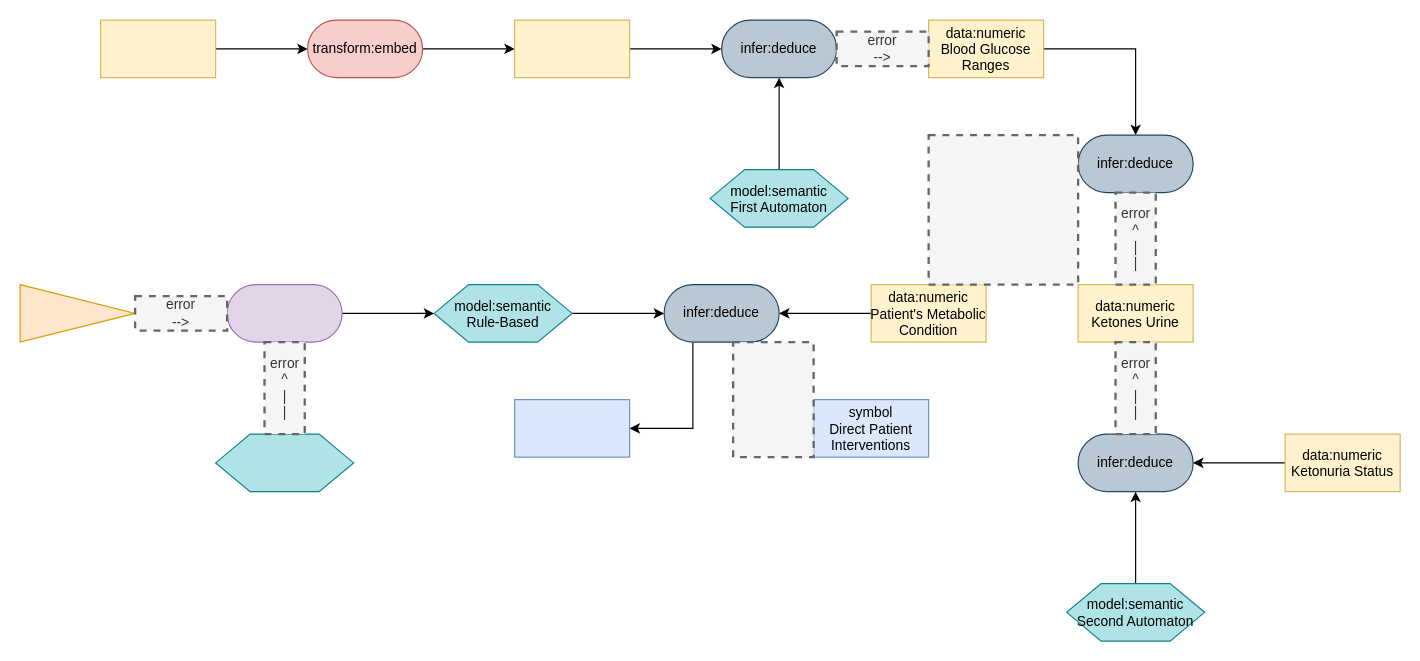
Some shapes in this 1420 by 661 pixel diagram are drawn without their labels. The shapes that lost their labels are listed below. From the top down, each one's box as (x1, y1, x2, y2) in pixels, then its label:
(99, 19, 216, 78): data:numeric Blood Glucose Measurement
(513, 19, 630, 78): data Dataset w/ Glycaemia Classified
(927, 133, 1079, 285): error -- | v
(19, 283, 135, 342): actor Endocrinologists
(226, 283, 342, 342): generate:train
(731, 340, 814, 458): error | -->
(513, 398, 630, 457): symbol Healthcare Provider Interventions
(214, 433, 354, 492): model:semantic Guidelines
